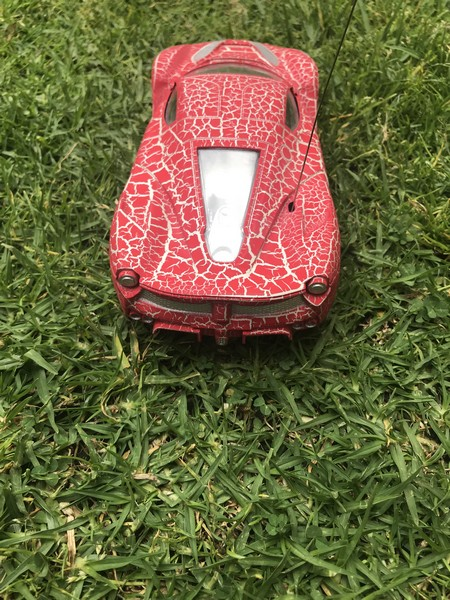RC: (106, 36, 343, 350)
